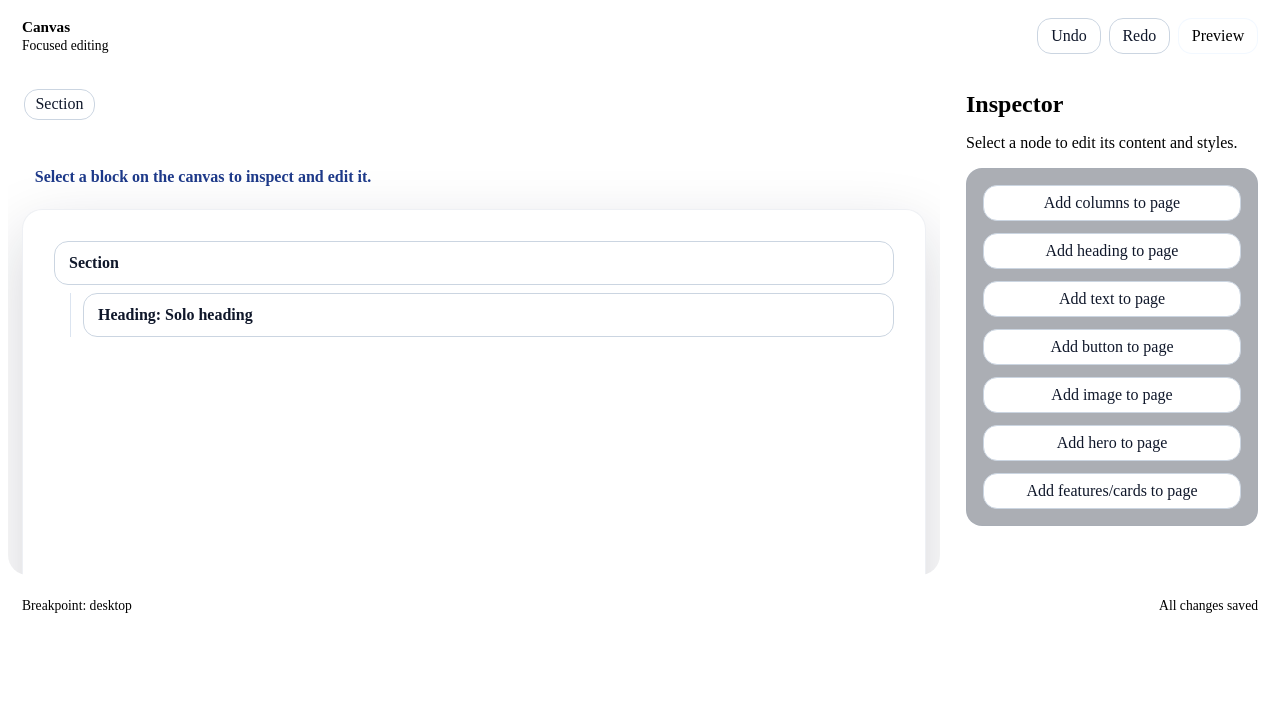
Test: editor shell flow › returns to the empty state after deleting the only block
The image size is (1280, 706).
Click the button "Heading: Solo heading". click: (175, 314)
box: [83,293,894,337]
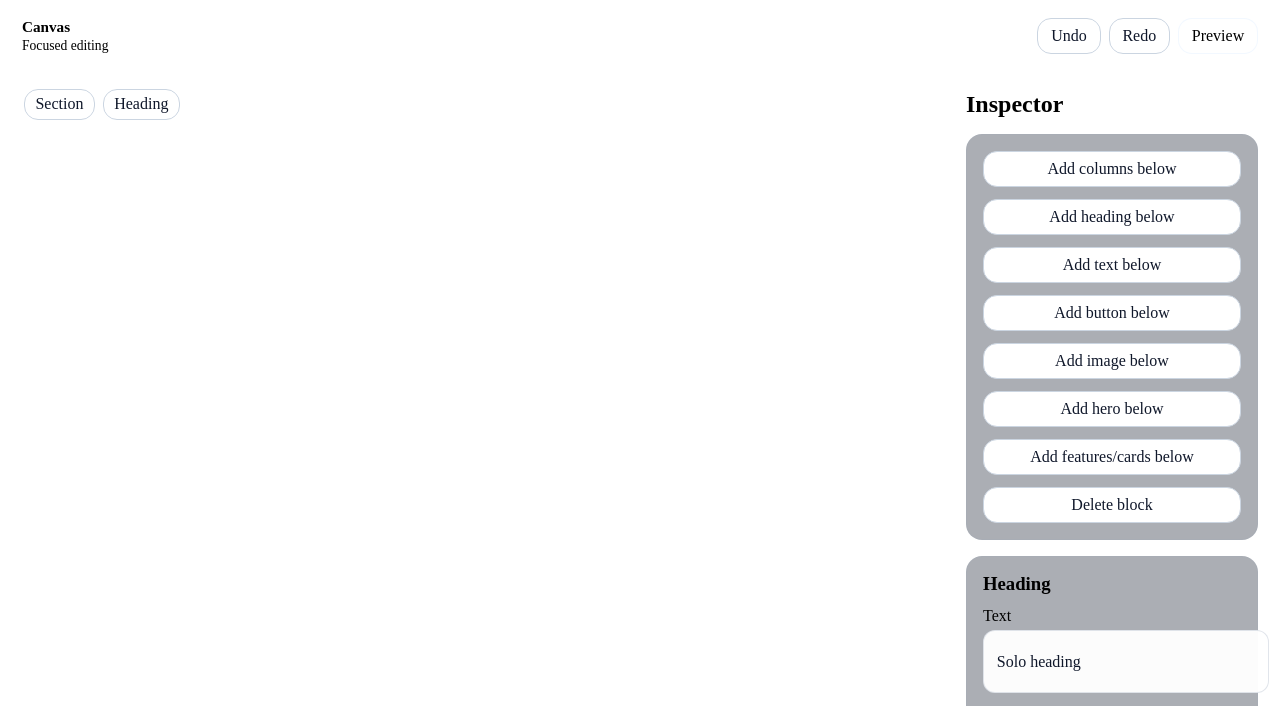
Click the button "Delete block". click: (1112, 505)
box: [983,487,1241,523]
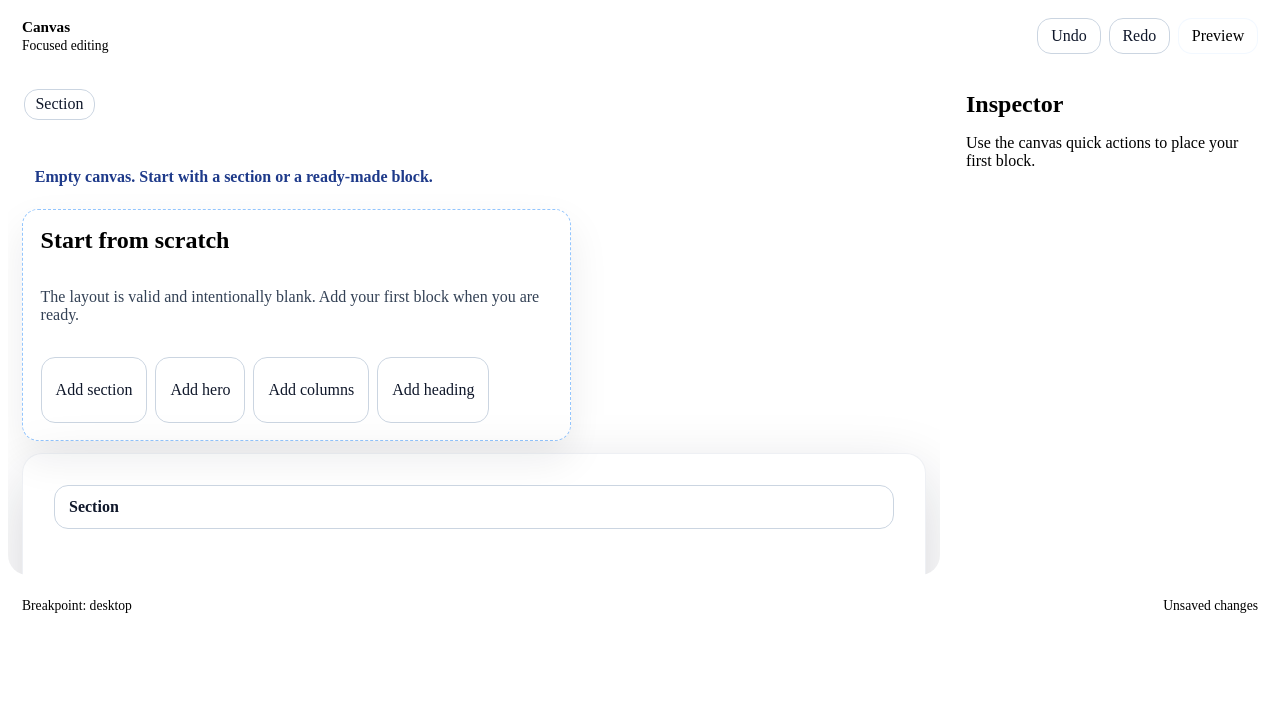
Now the text "The layout is valid and intentionally blank. Add your first block when you are ready." is shown, box [41,288,539,323]
Now the text "Use the canvas quick actions to place your first block." is shown, box [966,134,1258,170]
